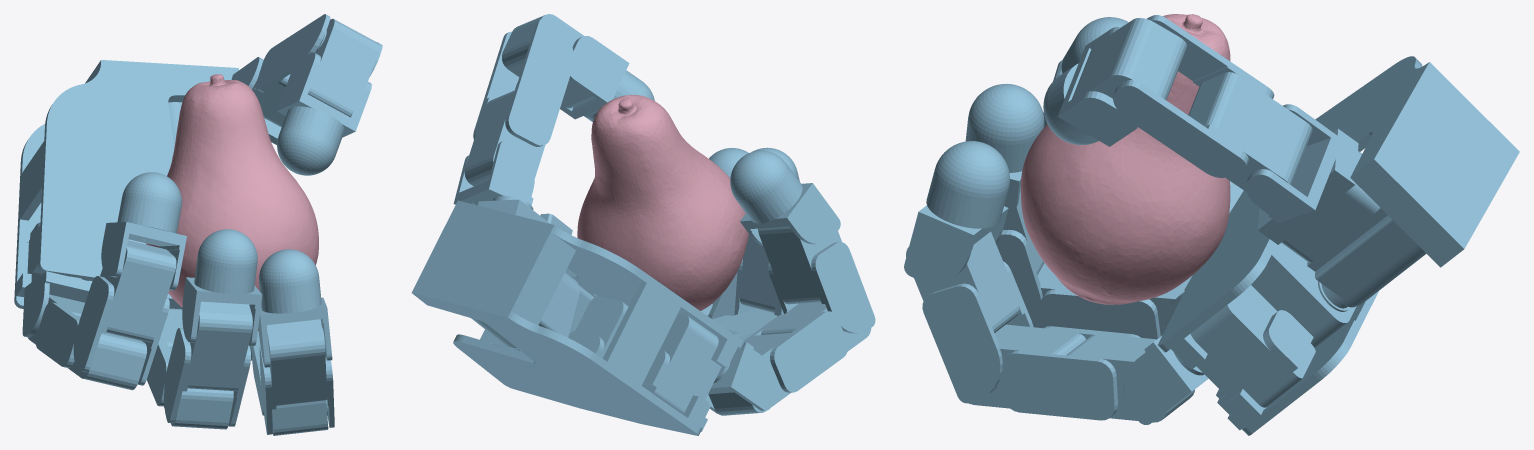
3 views of the same model, side by side, from view 1: azimuth 30°, elevation 25°; view 2: azimuth 150°, elevation 25°; view 3: azimuth 270°, elevation 25° (orthographic). The views are drawn at different scales.
Parts seen in each view (by area): view 1: world; view 2: world; view 3: world.
Part boxes in pixels (left/top/right/bottom): world: left=14, top=14, right=382, bottom=435; world: left=411, top=14, right=875, bottom=435; world: left=904, top=14, right=1519, bottom=435.
Bounding box in the file's own units: 0.1512 × 0.1517 × 0.1929.
